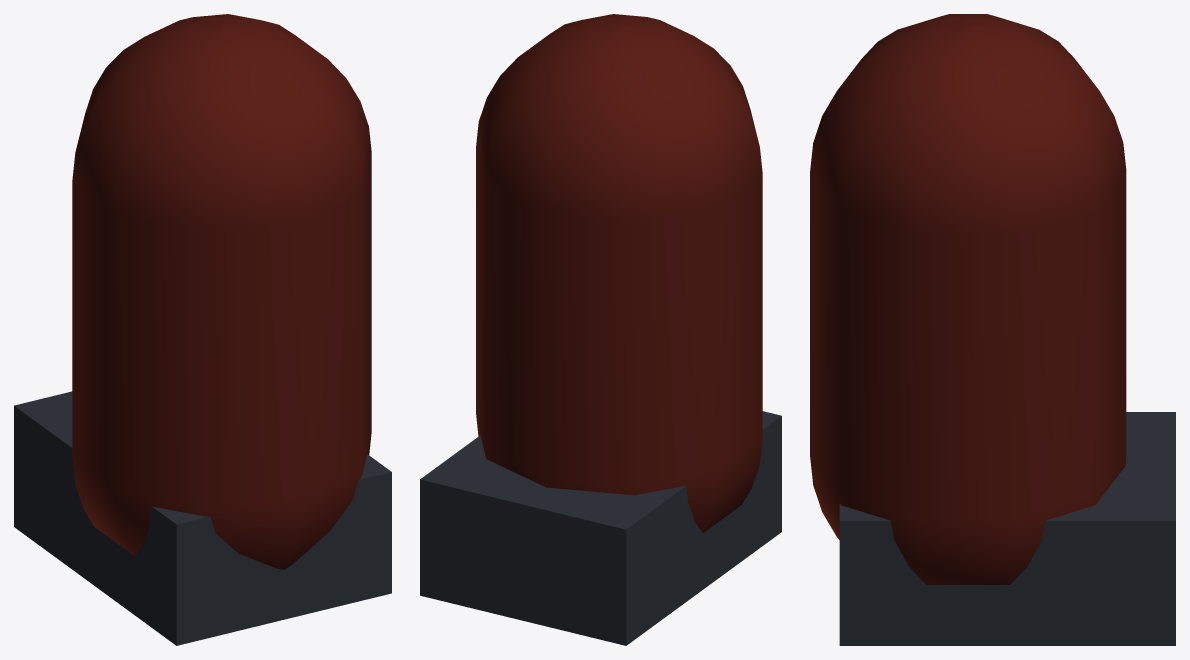
Rendered from original_boss_leg.glb.
3 renders of one model, left to right at view 1: azimuth 30°, elevation 25°; view 2: azimuth 150°, elevation 25°; view 3: azimuth 270°, elevation 25°, orthographic. The views are drawn at different scales.
Visible parts, largest first — view 1: original_boss_leg; view 2: original_boss_leg; view 3: original_boss_leg.
Boxes of the visible parts, <box> form: original_boss_leg: <box>14,14,391,645</box>; original_boss_leg: <box>420,14,781,645</box>; original_boss_leg: <box>810,14,1175,645</box>.
Size of the model in its own units: 0.3043 by 0.64 by 0.37.
1 material, 1 textured.
